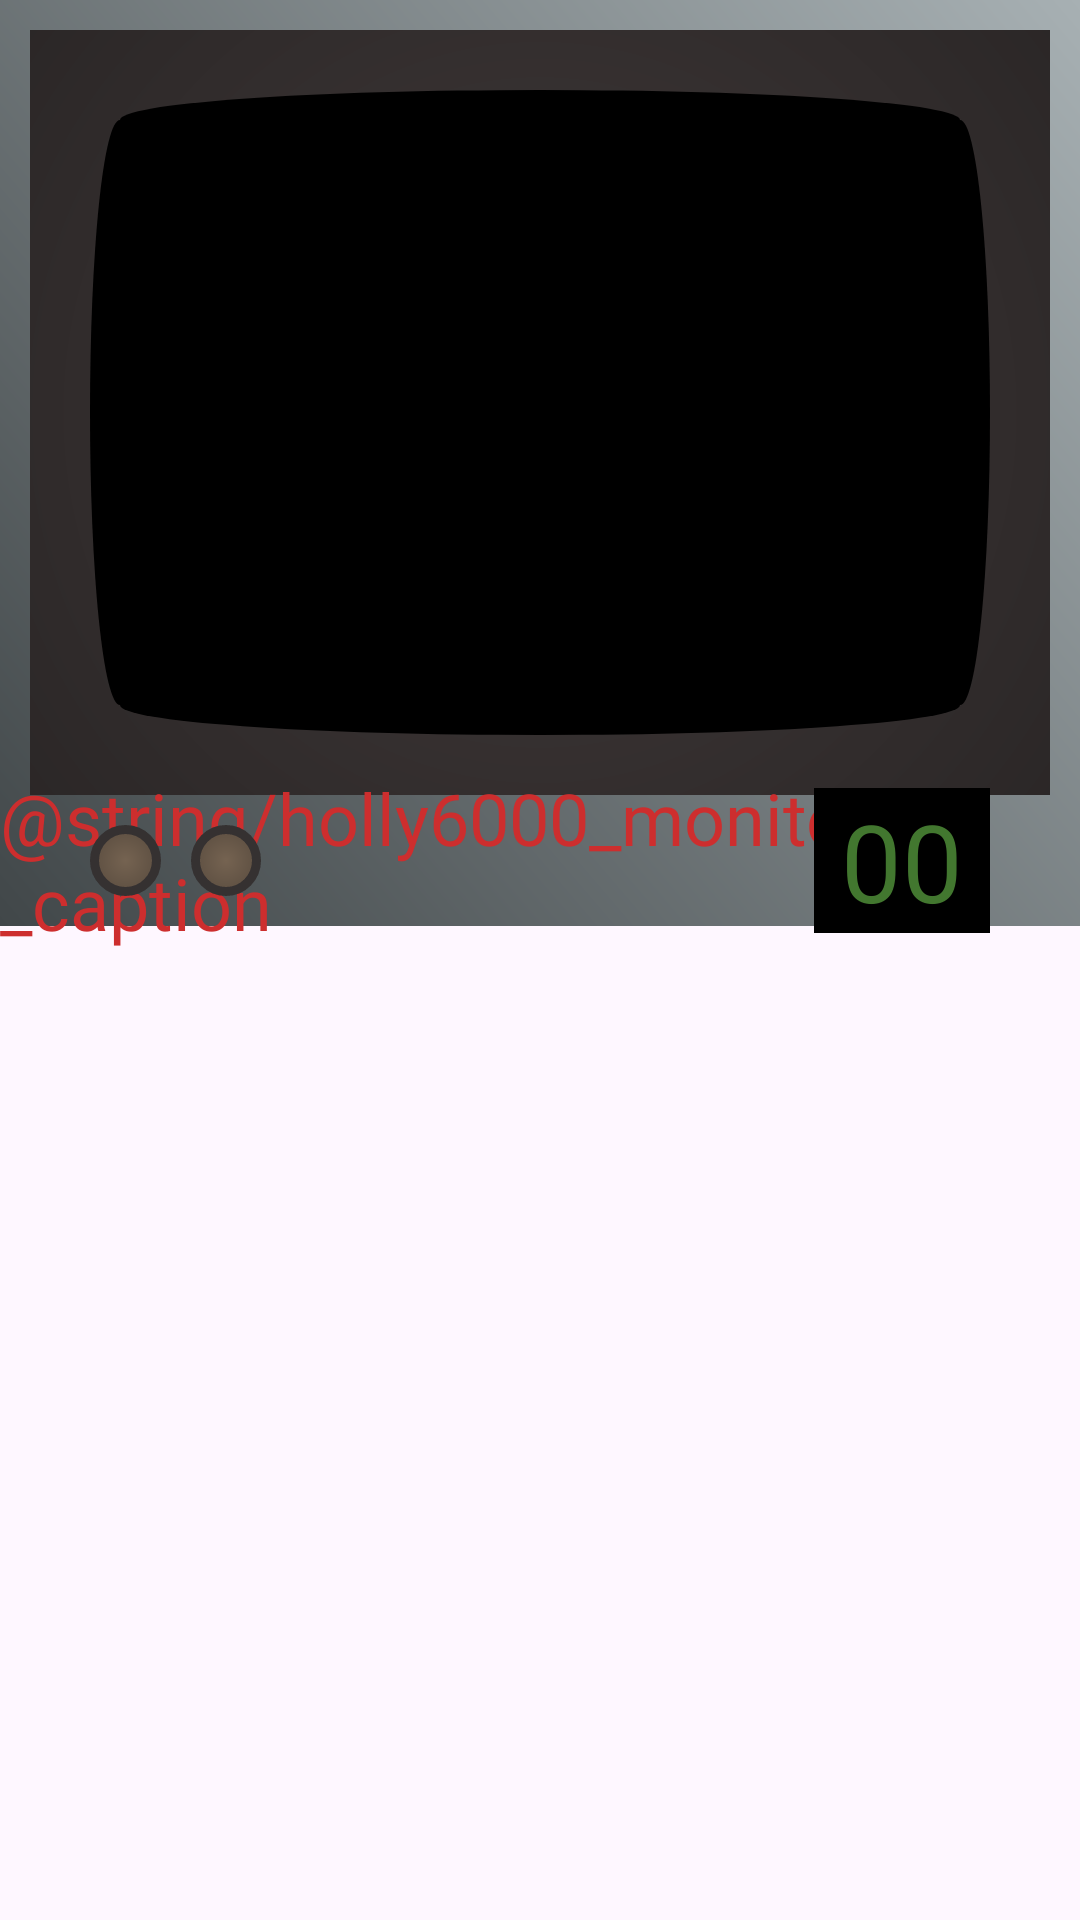

Locate icon controls on the screen. Image size 1080 x 1920, boxes as (x1,y1,x2,y2).
holly monitor knoble: (90,825,161,896), (191,825,261,896)
